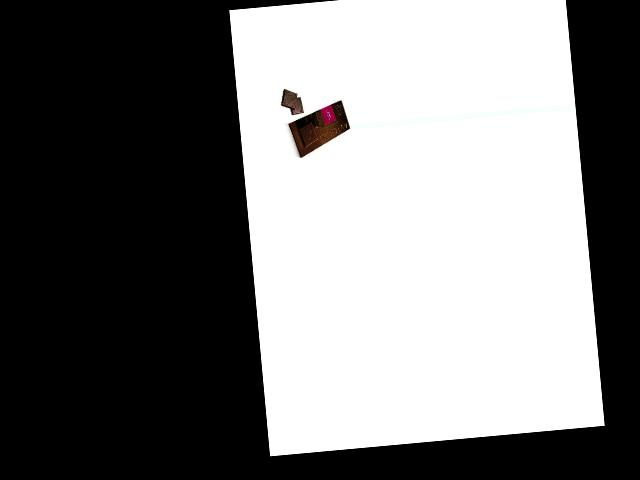chocolate: (285, 98, 353, 158)
